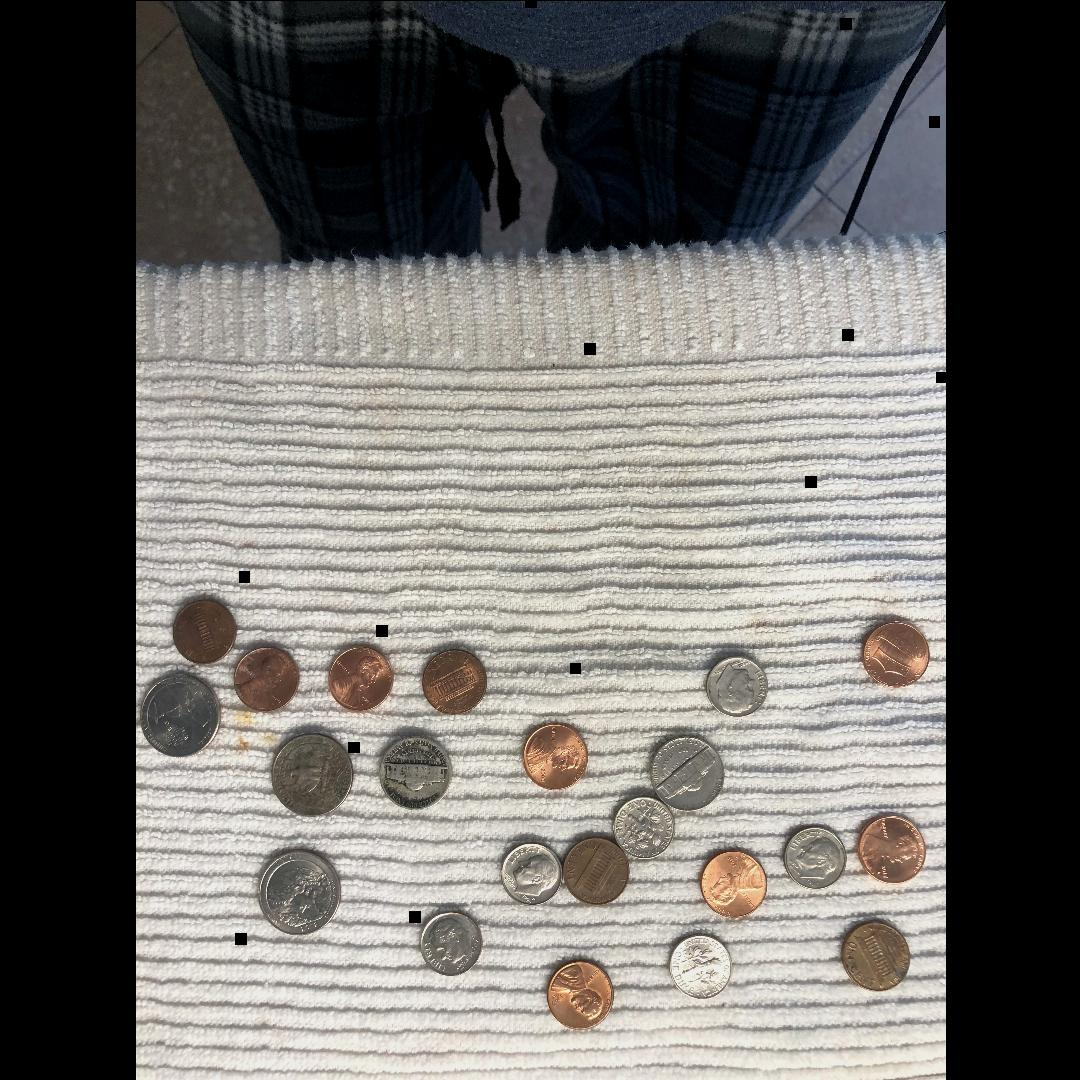Dime: (666, 932, 734, 998), (782, 822, 846, 892), (498, 839, 558, 905), (420, 912, 481, 976), (612, 796, 674, 858), (704, 655, 766, 713)
Nickel: (644, 730, 724, 810), (376, 734, 452, 808)
Penny: (832, 915, 910, 990), (856, 812, 926, 886), (544, 954, 612, 1030), (697, 846, 767, 916), (419, 648, 490, 716), (521, 716, 585, 790), (330, 640, 395, 712), (562, 836, 628, 906), (172, 592, 235, 664), (858, 620, 926, 686), (235, 645, 300, 711)
Quarter: (268, 728, 352, 816), (256, 849, 338, 933), (141, 672, 221, 756)
